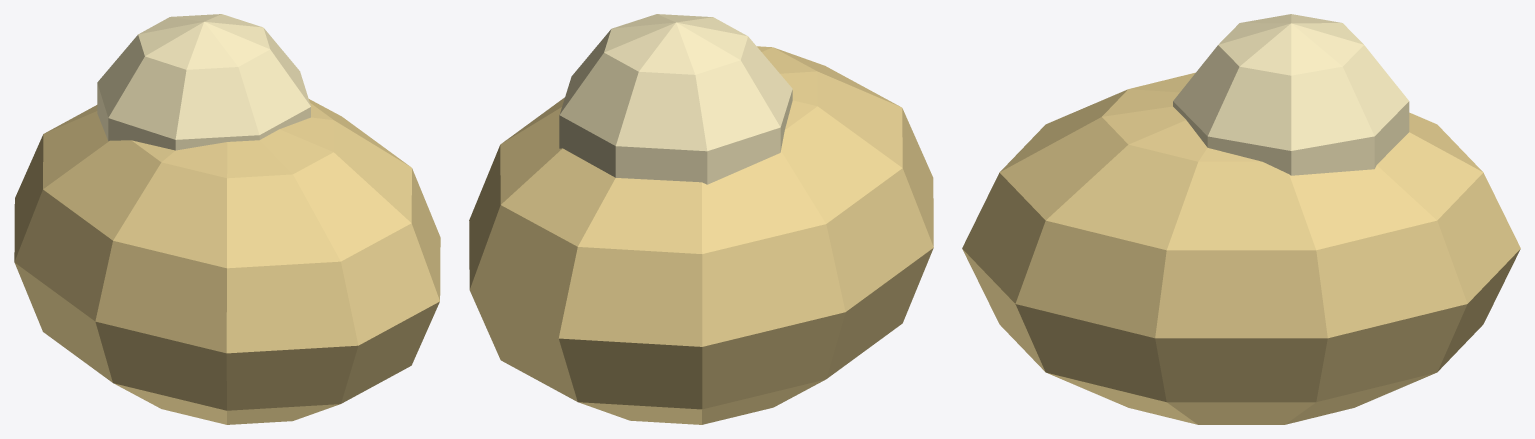
File: scarabee.glb
3 views of the same model, side by side, from view 1: azimuth 30°, elevation 25°; view 2: azimuth 150°, elevation 25°; view 3: azimuth 270°, elevation 25° (orthographic). The views are drawn at different scales.
Parts seen in each view (by area): view 1: scarabee_body, scarabee_dome; view 2: scarabee_body, scarabee_dome; view 3: scarabee_body, scarabee_dome.
Boxes of the visible parts, bbox=[...] form: scarabee_body: bbox=[14, 99, 440, 424]; scarabee_dome: bbox=[97, 14, 310, 150]; scarabee_body: bbox=[469, 46, 933, 424]; scarabee_dome: bbox=[559, 14, 792, 184]; scarabee_body: bbox=[962, 72, 1520, 424]; scarabee_dome: bbox=[1173, 14, 1409, 175].
Bounding box in the file's own units: 0.3424 × 0.335 × 0.45.
